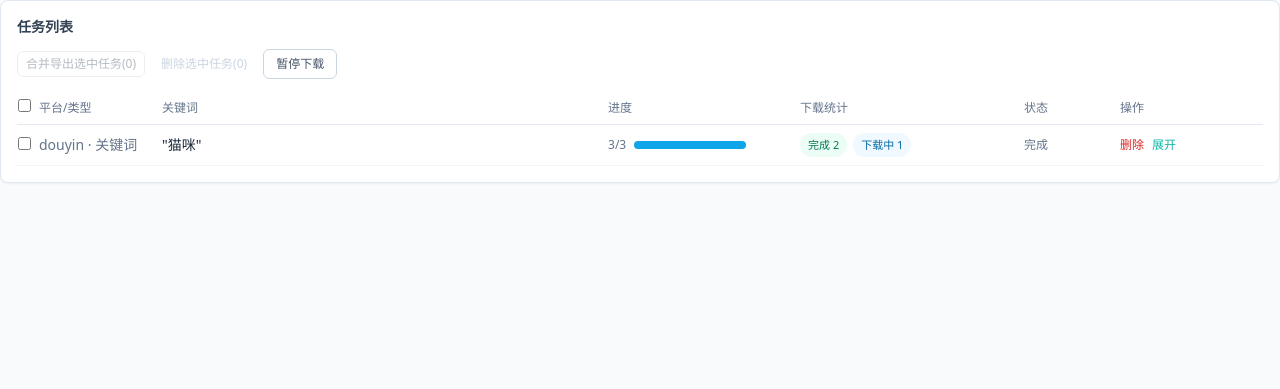
Test case: D8 视频列表 › 有分辨率和大小两列：720×1280、2.4 MB；没有的显示 —
Click the button "展开" at (1164, 145), box [1152,137,1176,153]
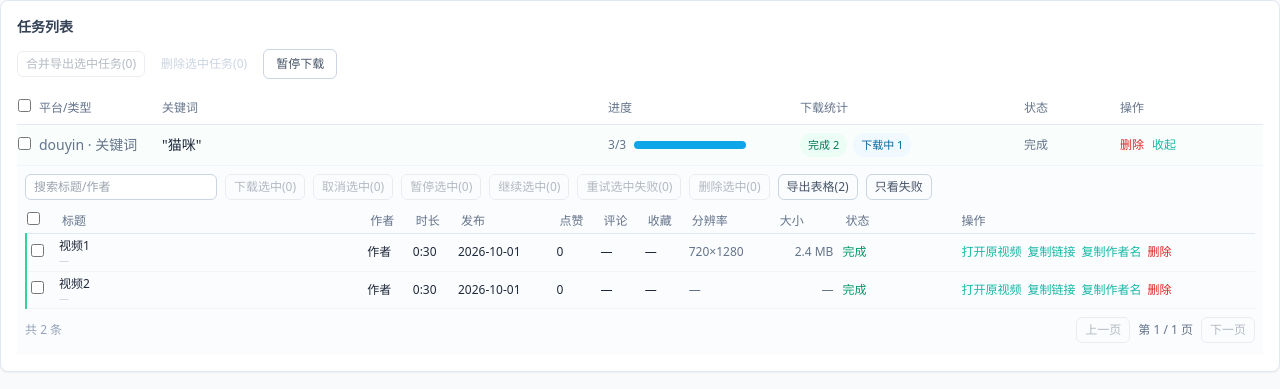
Expected: the 6th cell "—" is shown, [776,271,841,308]
Expected: the text "视频1" is shown, [59,237,90,254]
Expected: the 5th cell "—" is shown, [688,271,776,308]
